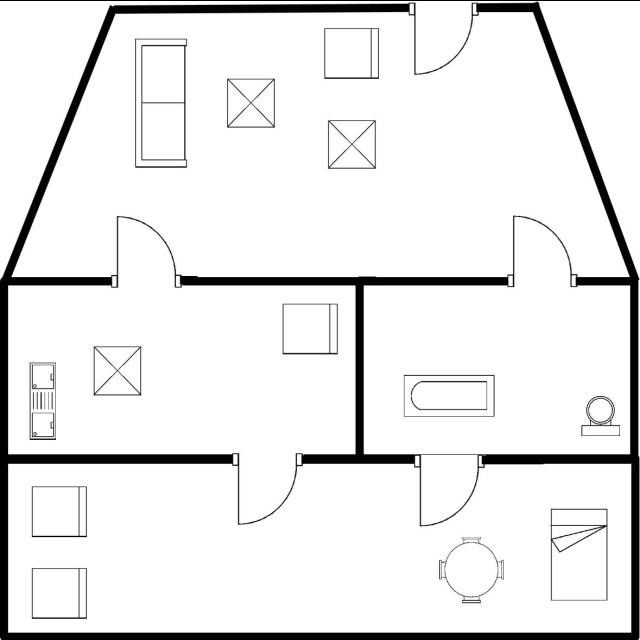bed: (545, 504, 613, 606)
coffee_table: (223, 72, 281, 135), (88, 341, 146, 402), (324, 111, 382, 172)
large_sink: (576, 393, 624, 439)
large_sofa: (129, 32, 193, 174)
round_table: (433, 532, 507, 608)
small_sofa: (26, 476, 94, 544), (319, 21, 383, 87), (28, 562, 94, 624), (277, 298, 341, 360)
tub: (398, 371, 502, 423)
twin_sink: (25, 358, 61, 444)
